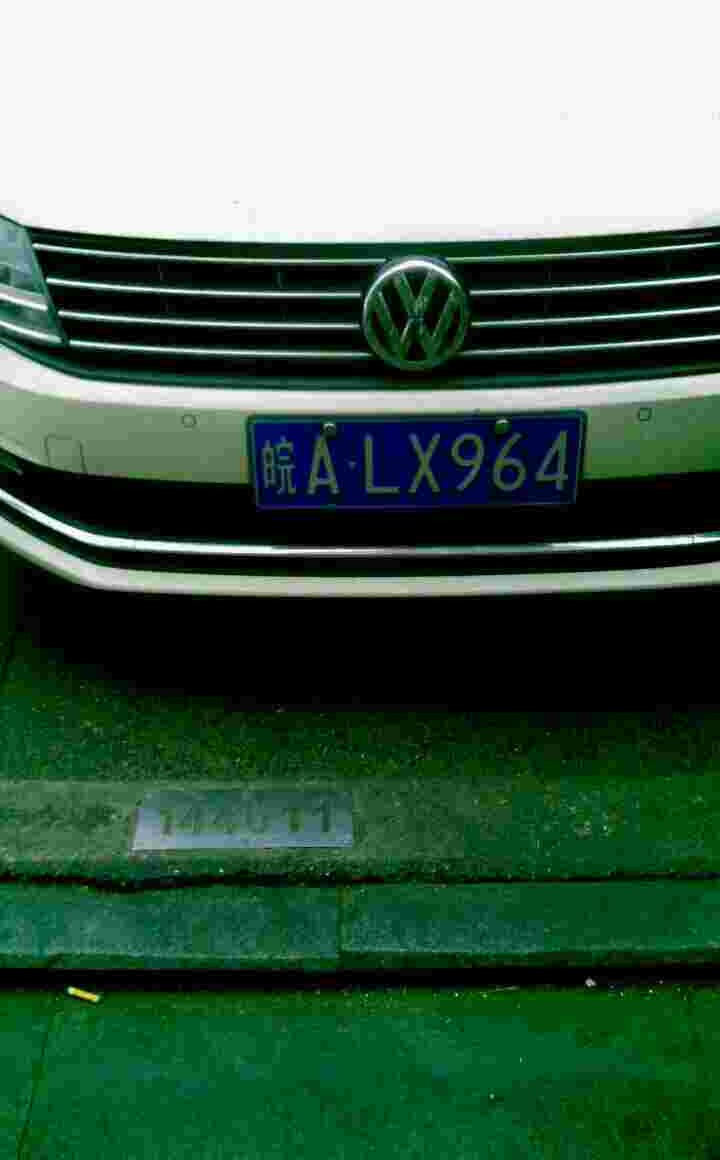license_plate: (254, 418, 579, 518)
